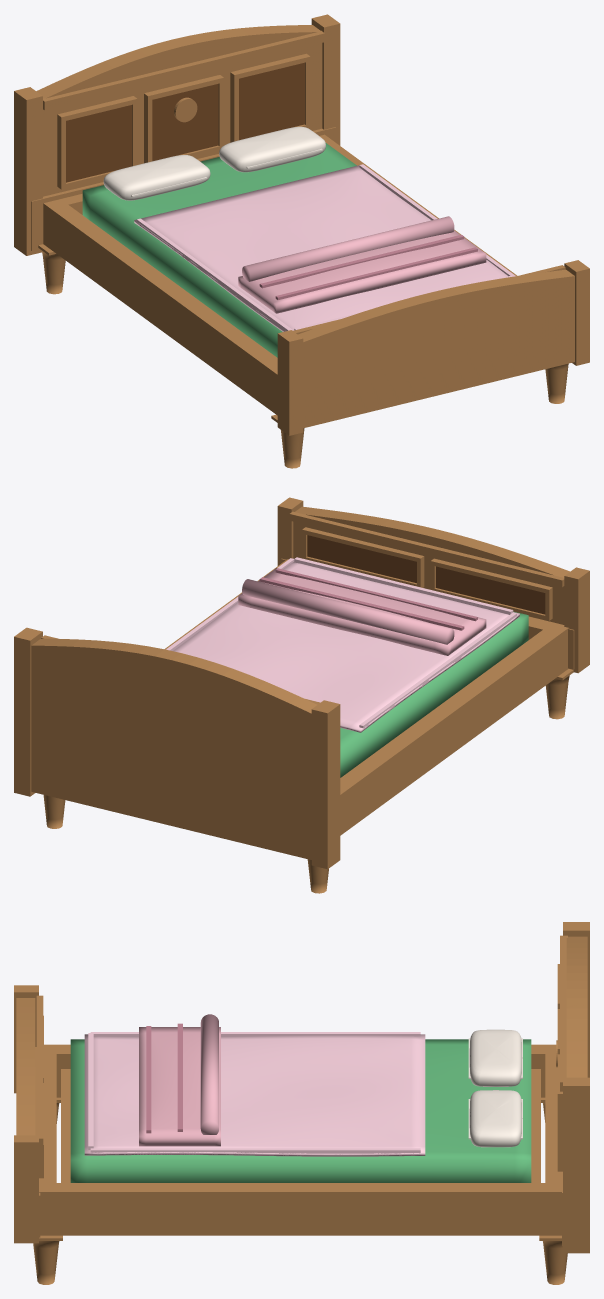
3 views of the same model, one above another, from view 1: azimuth 30°, elevation 25°; view 2: azimuth 150°, elevation 25°; view 3: azimuth 270°, elevation 25° (orthographic). The views are drawn at different scales.
Parts seen in each view (by area): view 1: decorative_headboard, decorative_footboard, light_pink_blanket, wooden_bed_frame_base, folded_comforter, green_mattress, pillow, tapered_leg; view 2: decorative_headboard, light_pink_blanket, decorative_footboard, wooden_bed_frame_base, folded_comforter, green_mattress, tapered_leg; view 3: wooden_bed_frame_base, light_pink_blanket, green_mattress, decorative_headboard, folded_comforter, decorative_footboard, pillow, tapered_leg.
Boxes of the visible parts, x1,y1,x2,y2 form: decorative_headboard: (14,14,340,255); decorative_footboard: (277,260,589,435); light_pink_blanket: (134,164,515,331); wooden_bed_frame_base: (38,134,517,422); folded_comforter: (238,216,486,313); green_mattress: (82,143,356,357); pillow: (103,126,325,200); tapered_leg: (41,250,568,468); decorative_headboard: (14,627,340,869); light_pink_blanket: (166,557,519,732); decorative_footboard: (277,497,589,673); wooden_bed_frame_base: (164,559,573,835); folded_comforter: (238,568,486,655); green_mattress: (340,611,528,777); tapered_leg: (43,675,569,893); wooden_bed_frame_base: (35,1044,561,1240); light_pink_blanket: (84,1032,425,1156); green_mattress: (70,1039,531,1182); decorative_headboard: (556,922,589,1253); folded_comforter: (139,1014,220,1146); decorative_footboard: (14,985,43,1243); pillow: (468,1029,522,1147); tapered_leg: (33,1103,567,1284).
Size of the model in its own units: 6.36 by 4.03 by 9.43.
